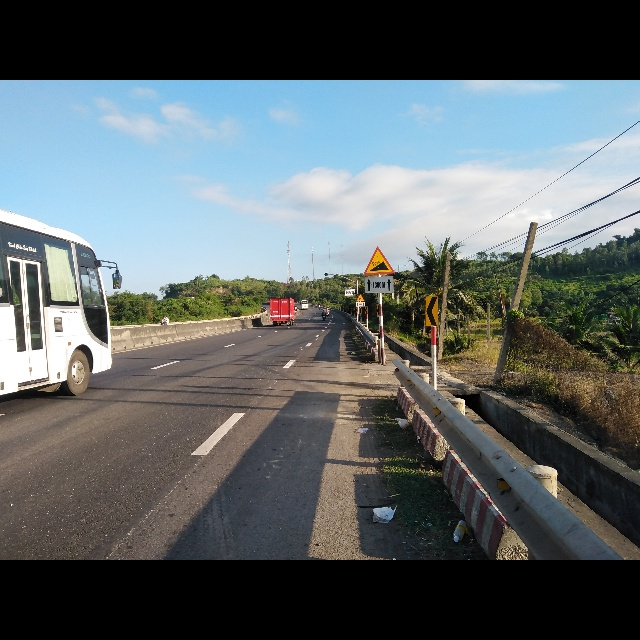Dốc lên nguy hiểm: (362, 246, 396, 276)
